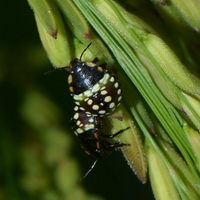insect: (46, 43, 129, 157)
